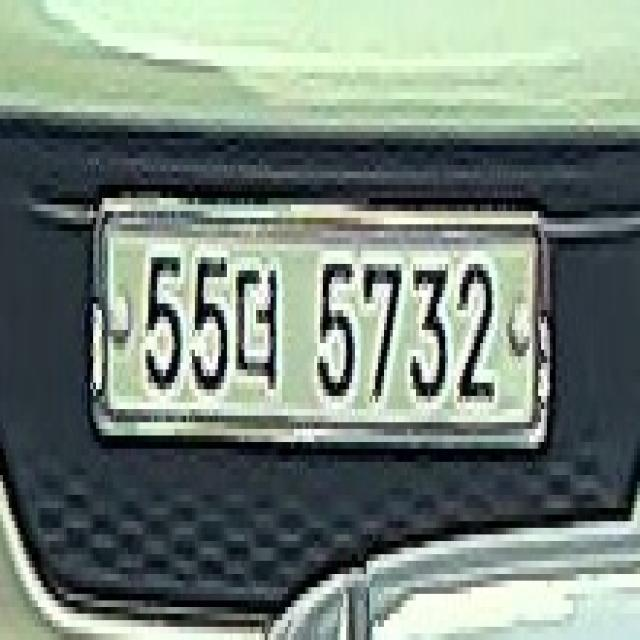2: (455, 246, 498, 409)
3: (406, 247, 452, 406)
5: (313, 246, 357, 404), (190, 238, 232, 396), (143, 242, 185, 392)
7: (359, 246, 402, 403)
deo: (235, 242, 284, 397)
license_plate: (88, 176, 560, 465)
